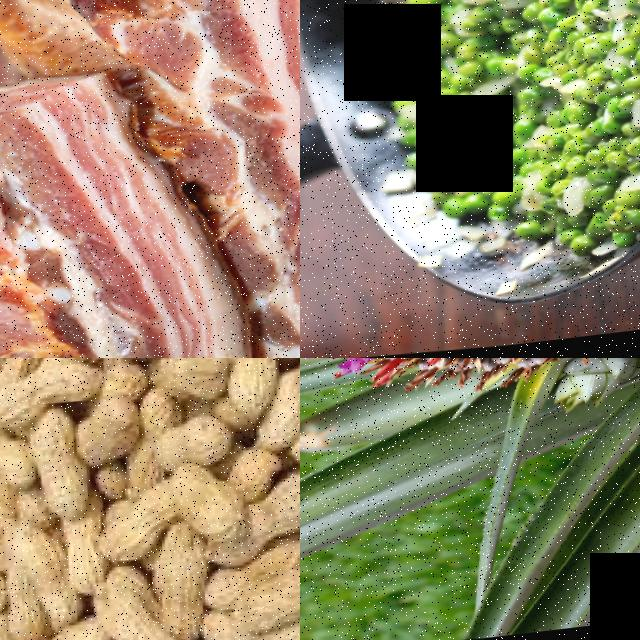peanuts: (154, 466, 243, 559), (18, 409, 87, 525), (0, 358, 99, 430), (139, 416, 228, 477), (225, 574, 300, 640), (209, 358, 277, 422), (139, 358, 221, 410)
peas: (500, 0, 640, 237)
pork belly: (0, 62, 205, 358), (163, 69, 300, 358), (0, 0, 300, 121)
